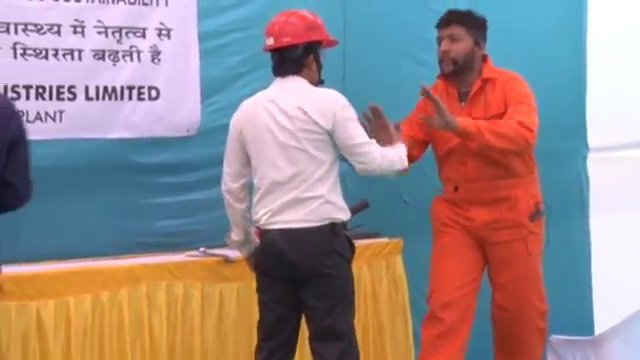helmet: (260, 5, 340, 54)
helmet_off: (431, 9, 488, 76)
helmet_on: (259, 4, 341, 88)
person: (217, 6, 414, 360), (359, 4, 550, 360)
